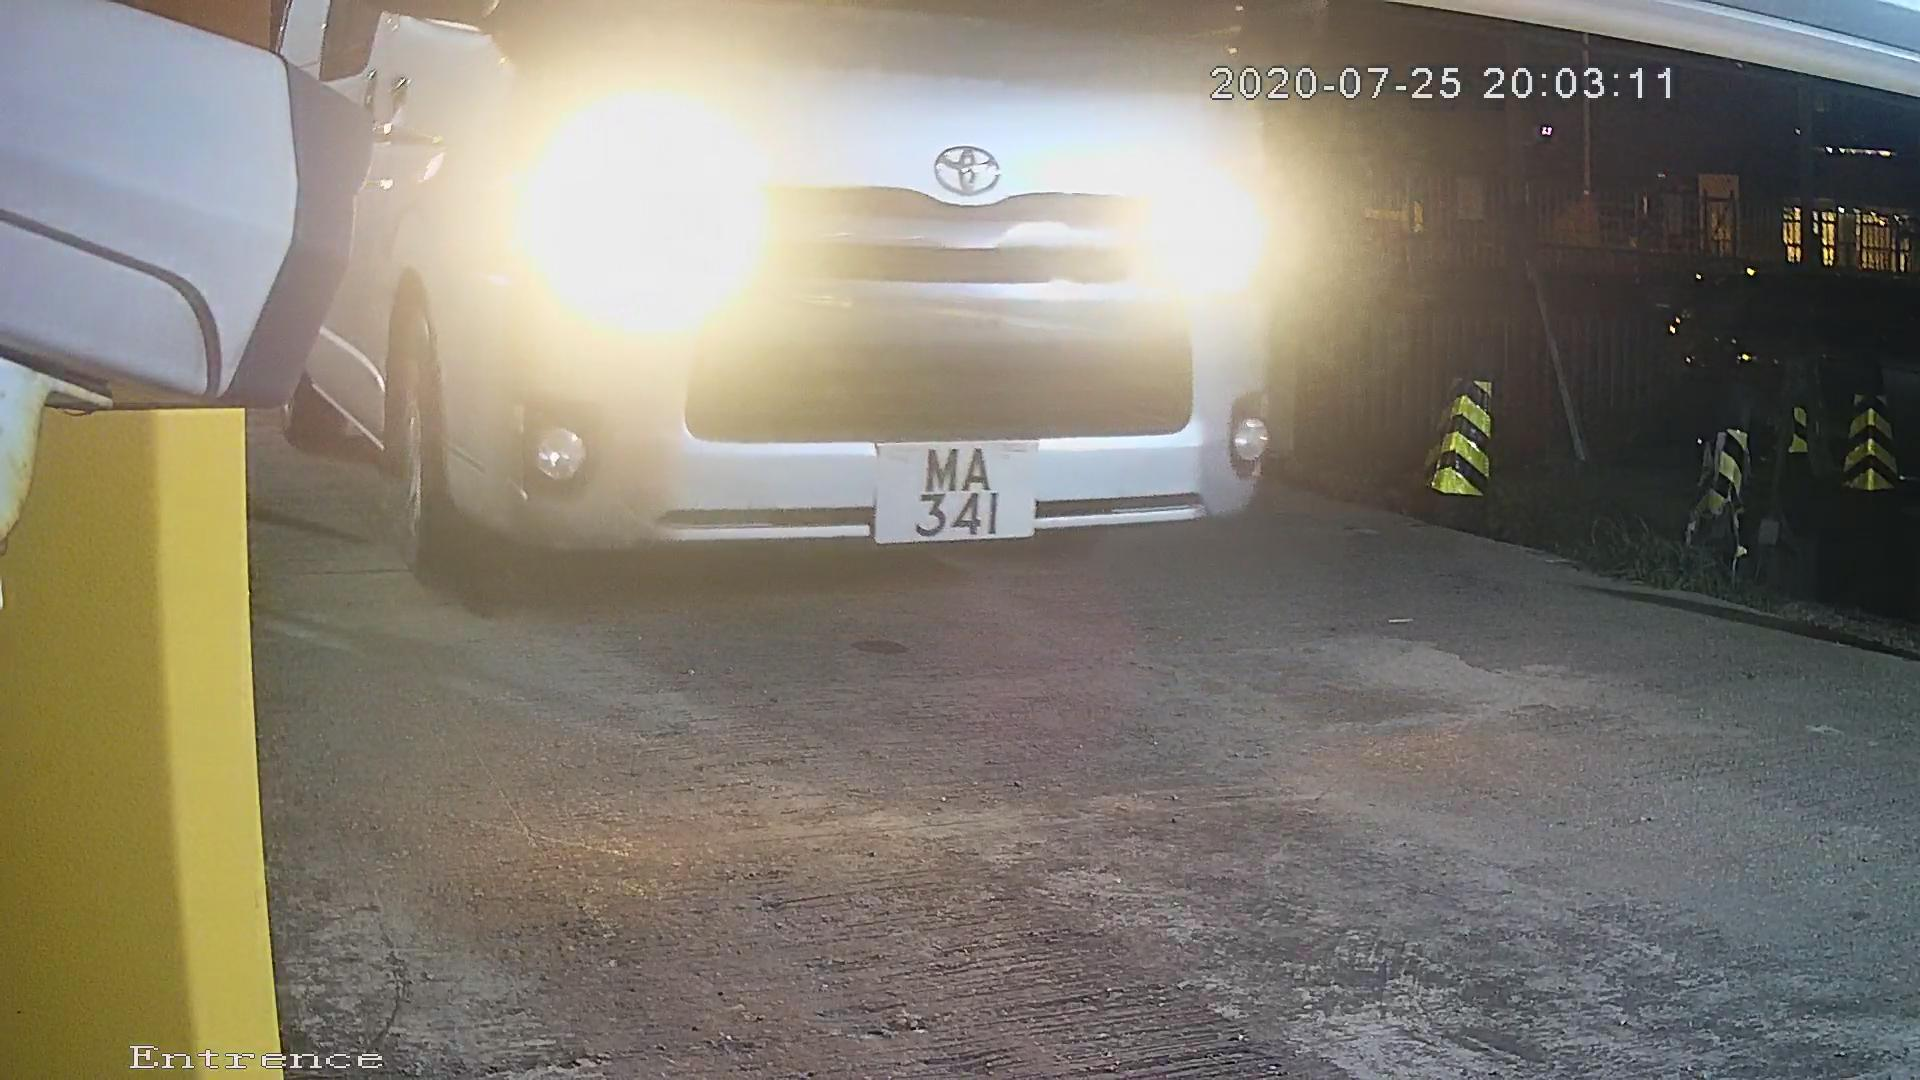Car: (206, 5, 1492, 666)
License Plate: (841, 425, 1089, 550)
